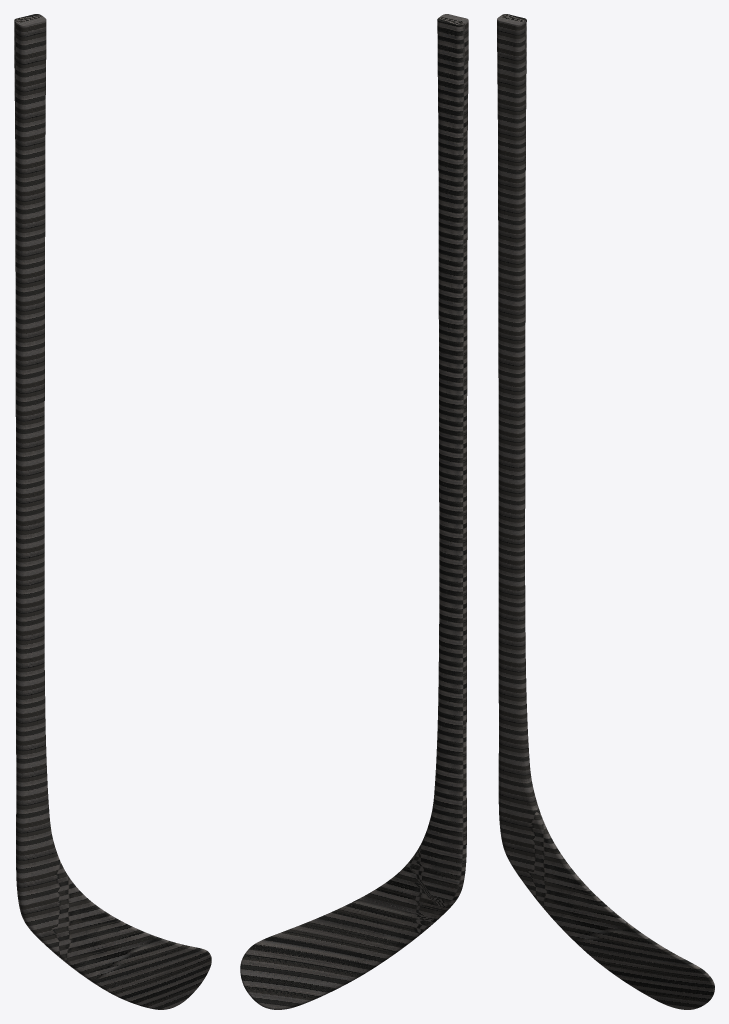
File: P92-SBO.glb
3 renders of one model, left to right at view 1: azimuth 30°, elevation 25°; view 2: azimuth 150°, elevation 25°; view 3: azimuth 330°, elevation 25°, orthographic. The views are drawn at different scales.
Visible parts, largest first — view 1: geometry_0; view 2: geometry_0; view 3: geometry_0.
Boxes of the visible parts, <box> form: geometry_0: <box>14,14,211,1009</box>; geometry_0: <box>240,14,468,1009</box>; geometry_0: <box>497,14,714,1009</box>.
Bounding box in the file's own units: 243 × 1137 × 56.38.
1 material, 1 textured.
